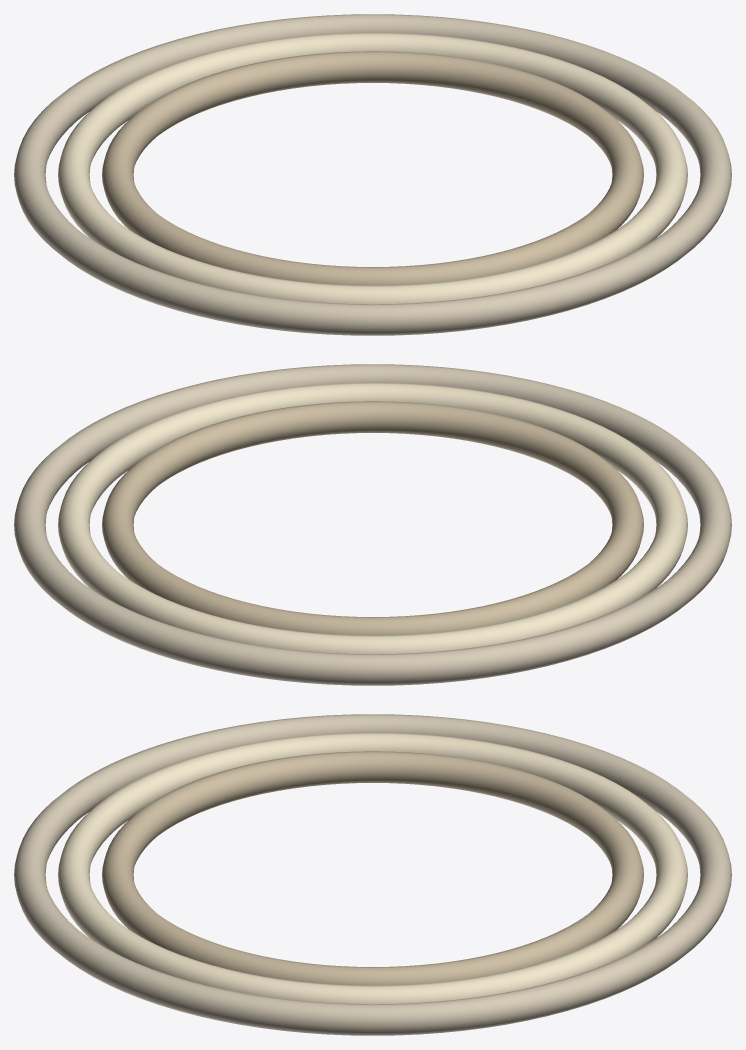
The model's file is sp_rings.glb.
3 views of the same model, one above another, from view 1: azimuth 30°, elevation 25°; view 2: azimuth 150°, elevation 25°; view 3: azimuth 270°, elevation 25° (orthographic).
Size of the model in its own units: 4.08 by 0.18 by 4.08.
